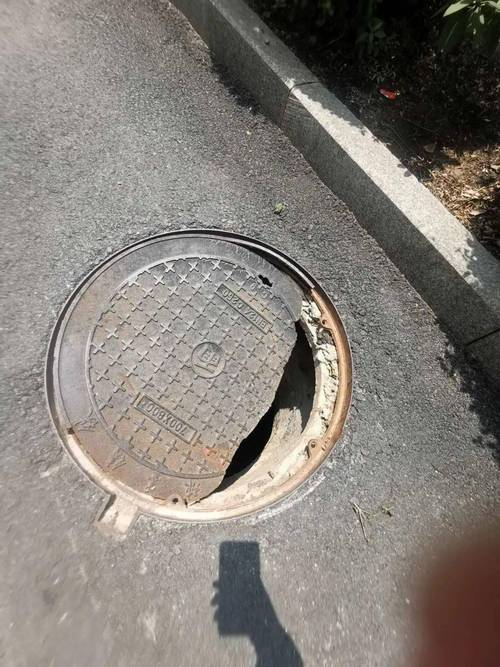broke: (37, 210, 362, 535)
